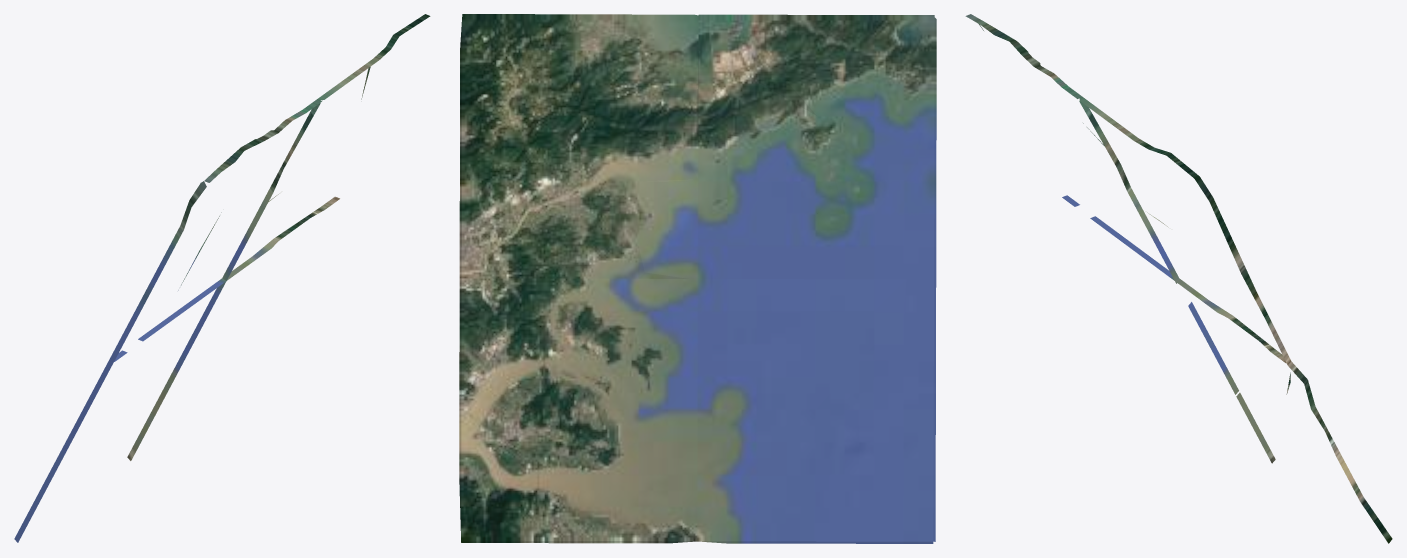
The picture shows the model from 3 angles, left to right: view 1: azimuth 30°, elevation 25°; view 2: azimuth 150°, elevation 25°; view 3: azimuth 270°, elevation 25°; orthographic projection. The views are drawn at different scales.
Bounding box in the file's own units: 39248 × 35803 × 33310.
1 material, 1 textured.
